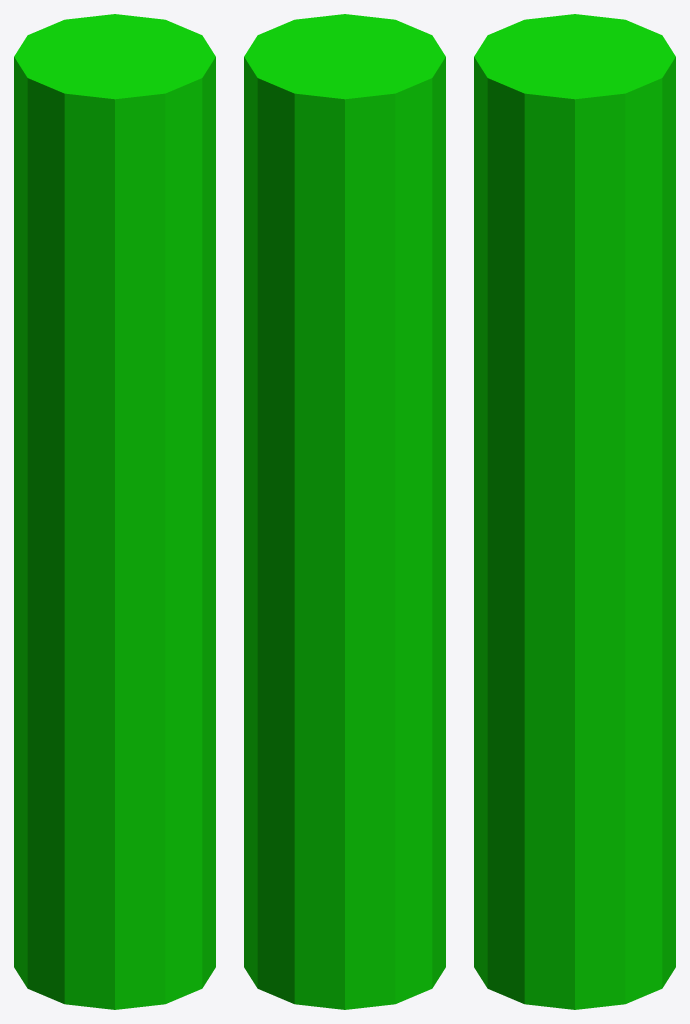
Rendered from sm_collider_002.fbx.
3 views of the same model, side by side, from view 1: azimuth 30°, elevation 25°; view 2: azimuth 150°, elevation 25°; view 3: azimuth 270°, elevation 25° (orthographic).
Visible parts, largest first — view 1: sm_collider.002; view 2: sm_collider.002; view 3: sm_collider.002.
Boxes of the visible parts, <box> form: sm_collider.002: <box>14,14,215,1009</box>; sm_collider.002: <box>244,14,445,1009</box>; sm_collider.002: <box>474,14,675,1009</box>.
Bounding box in the file's own units: 221 × 1099 × 221.
